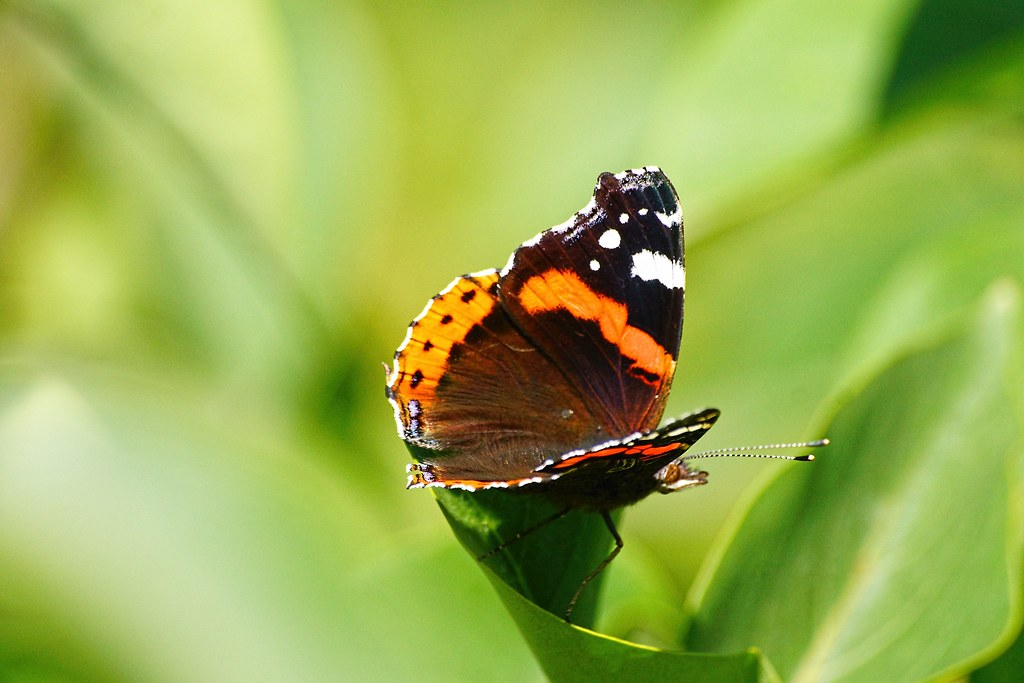Butterfly: (380, 162, 828, 627)
